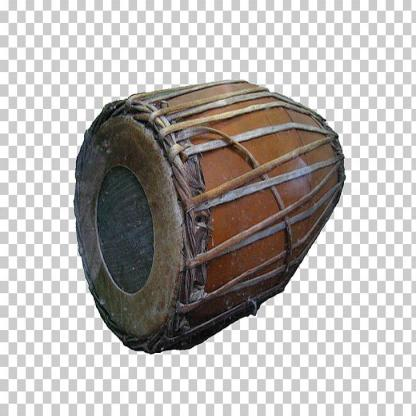Mridangam: (75, 79, 342, 352)
